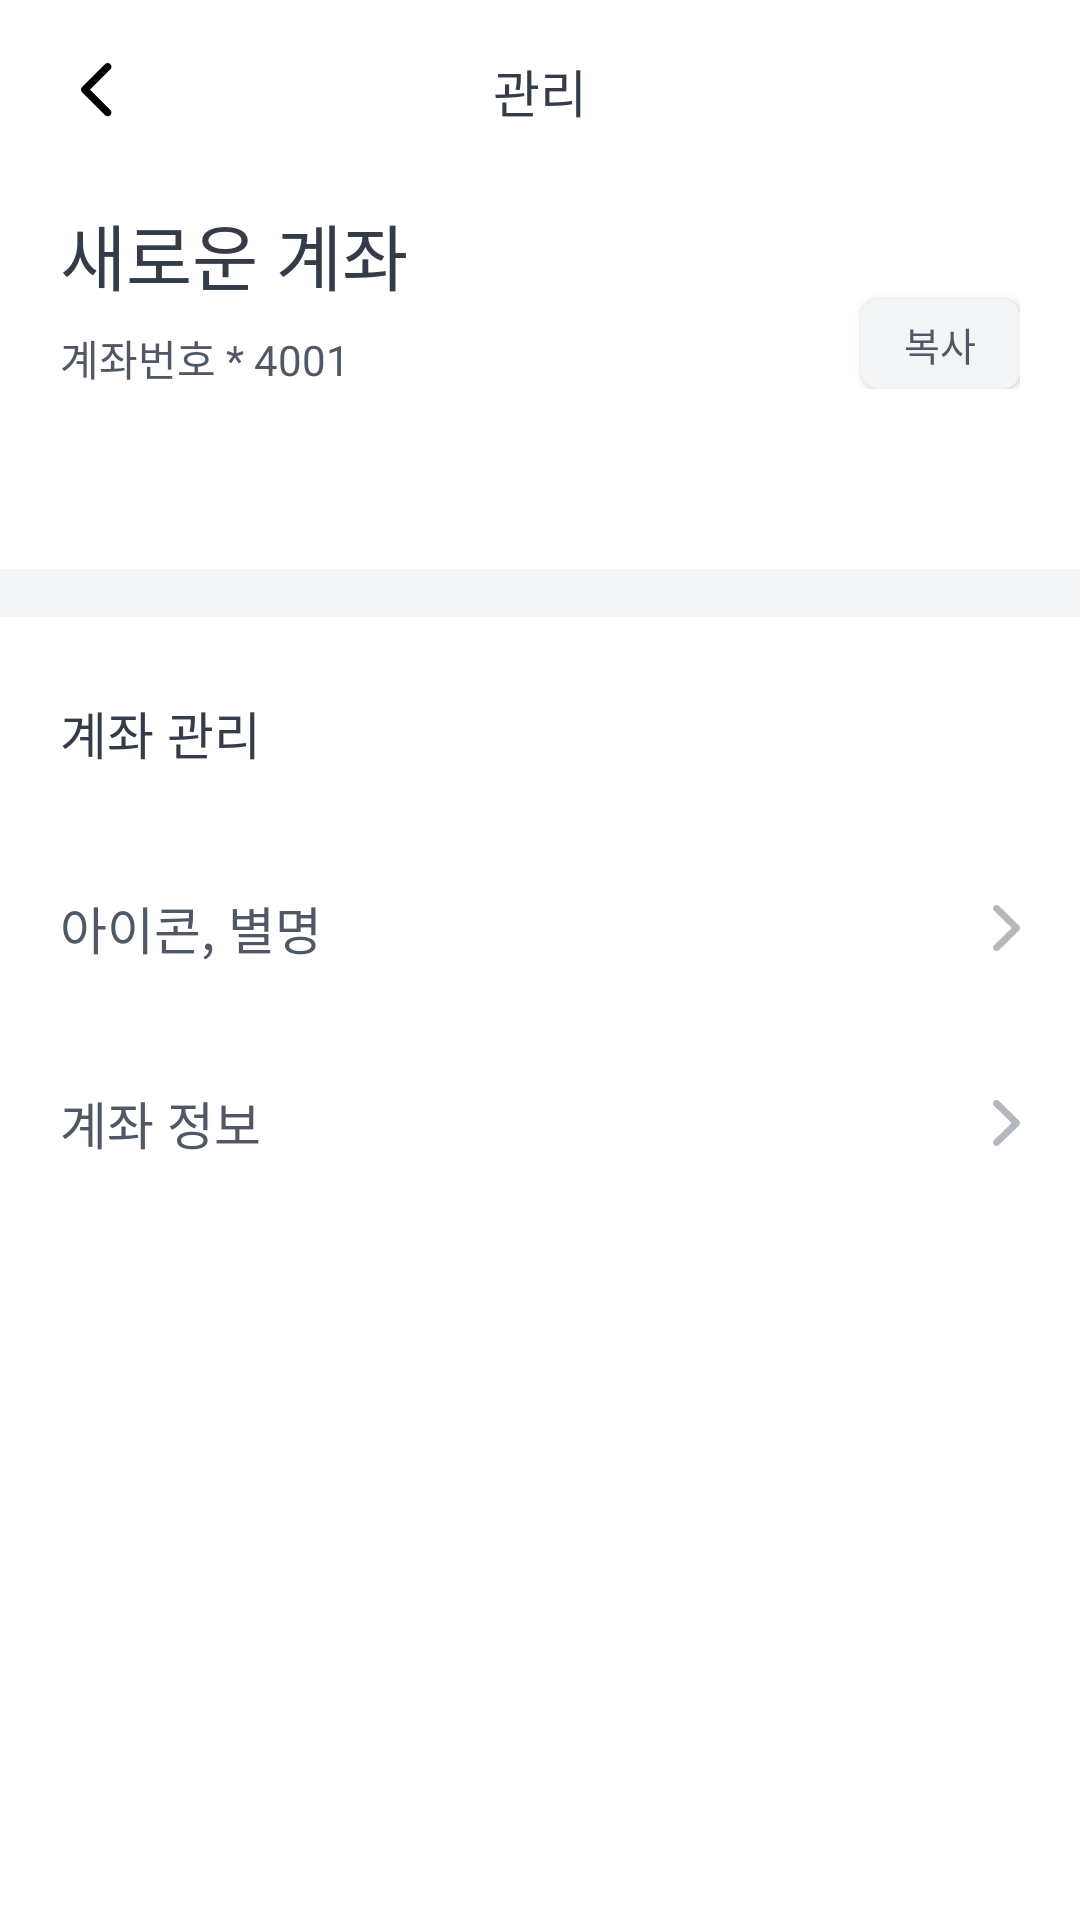

Point at icon controls on the screen. Image size 1080 x 1920, points as (x,y).
arrow back: (96,90)
arrow mini: (1006,928), (1006,1123)
